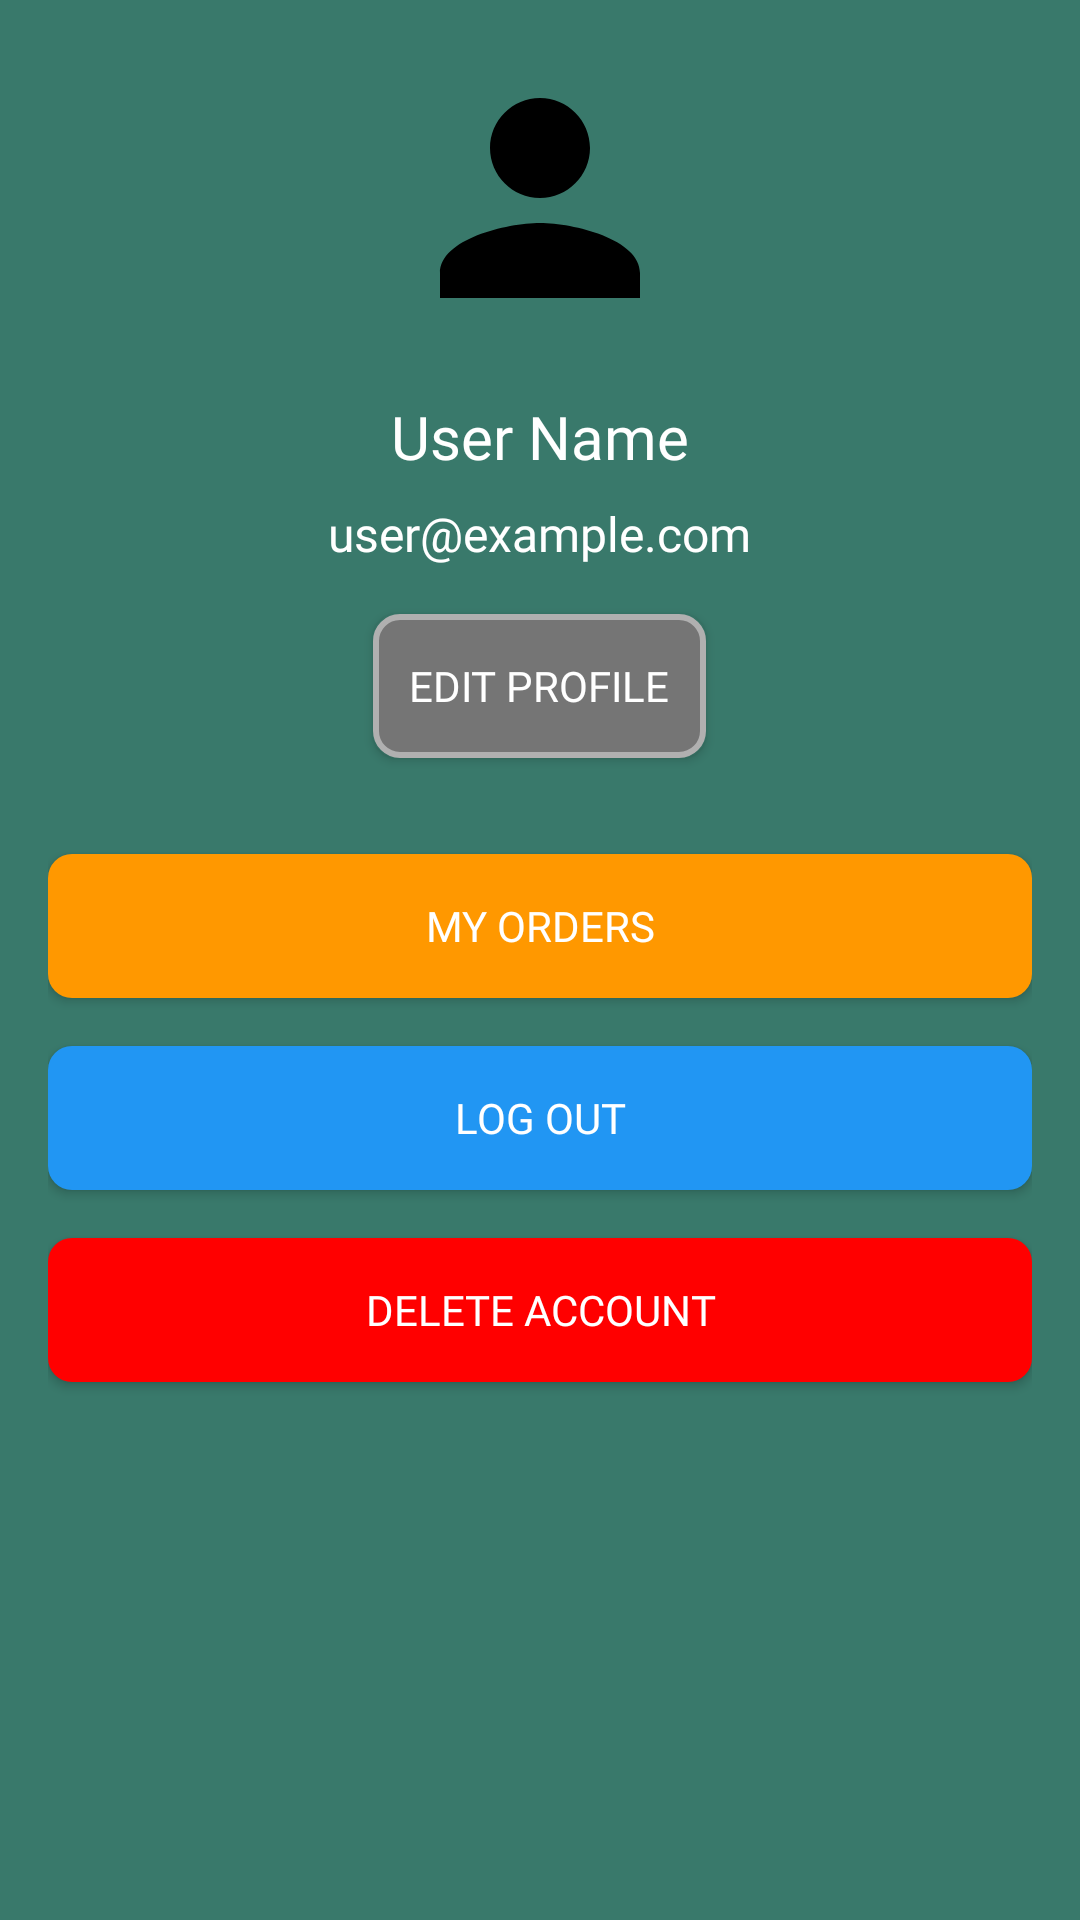

Named icons in this screenshot (1080px×1920px) and their centers, point (x, y):
Profile Image: point (540, 198)
